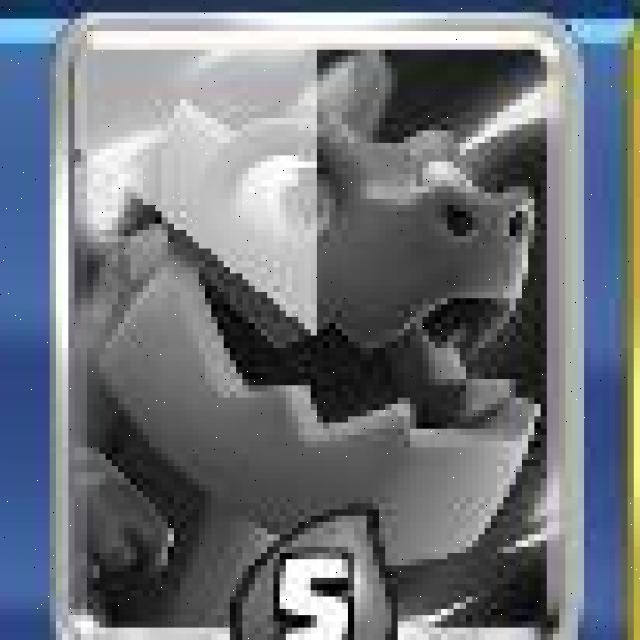Electro_Dragon: (51, 9, 584, 640)
